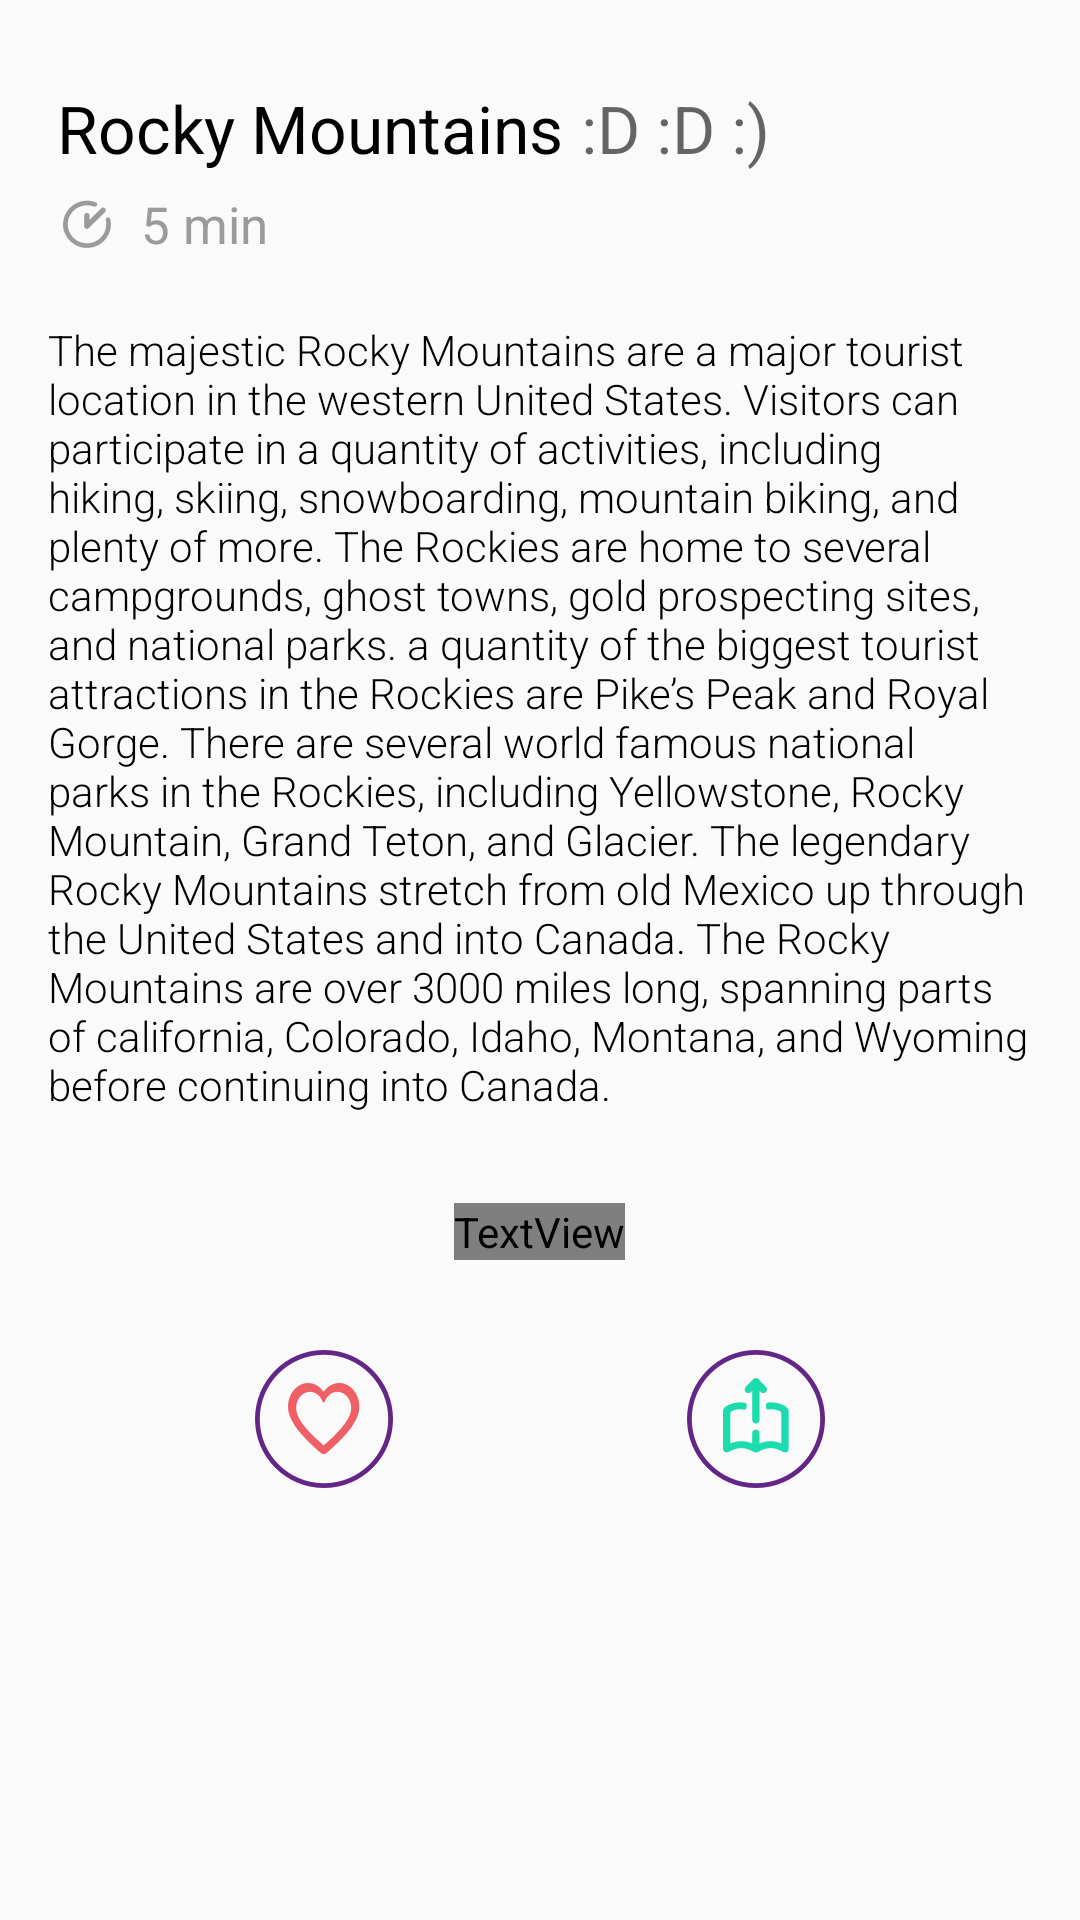

Icon bounding boxes for this 1080px×1920px phone screenshot, format (x1, y1, x2, y2):
time reading: (63, 200, 111, 248)
